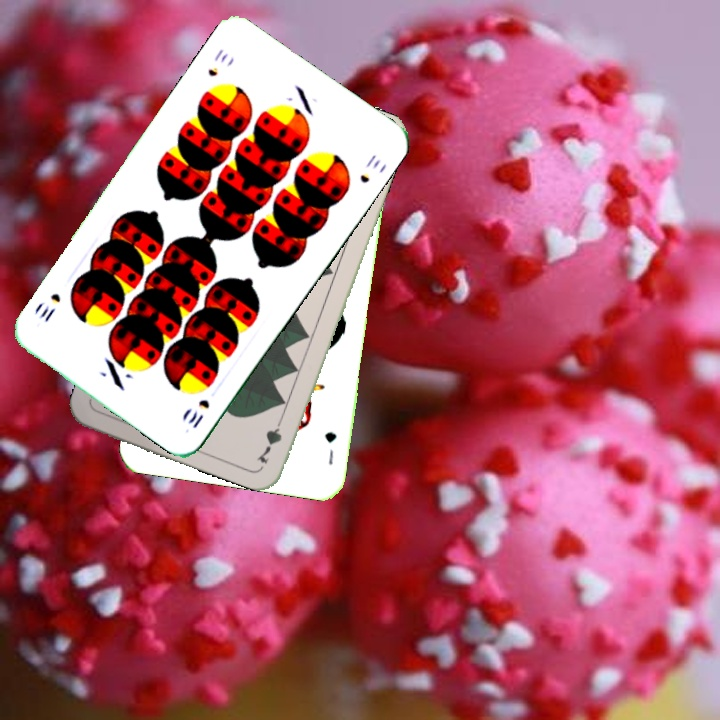G7: (253, 409, 287, 467)
GU: (320, 427, 340, 468)
S10: (184, 395, 212, 431), (203, 44, 231, 80)
